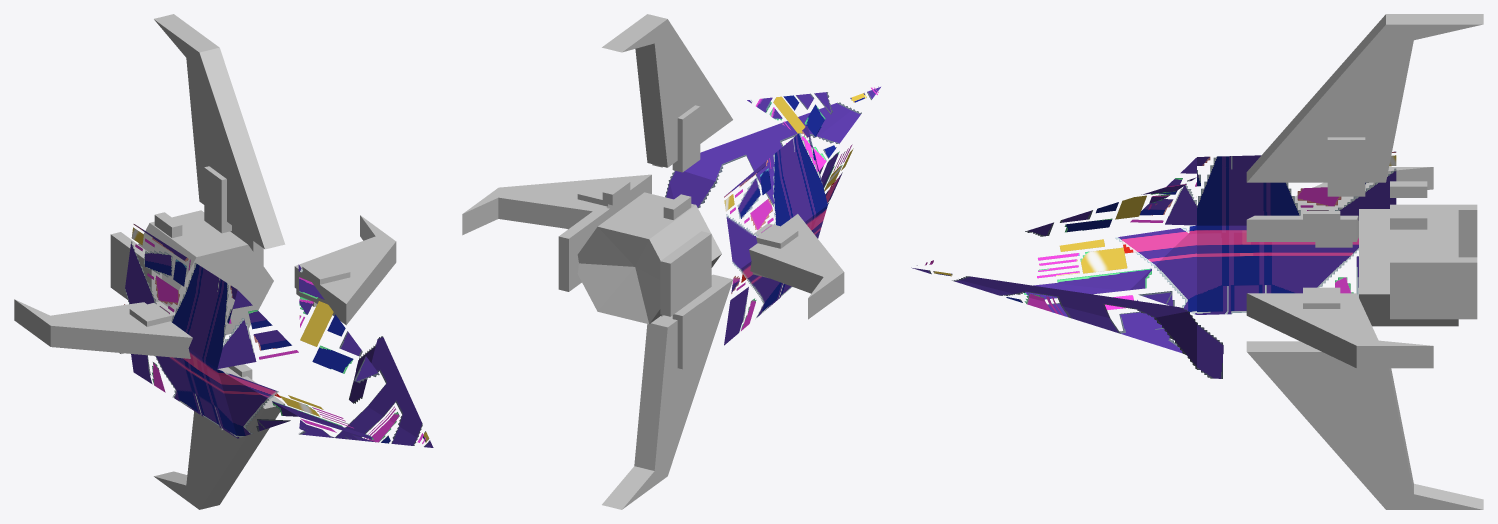
Rendered from Blijnik.obj.
The picture shows the model from 3 angles, left to right: view 1: azimuth 30°, elevation 25°; view 2: azimuth 150°, elevation 25°; view 3: azimuth 270°, elevation 25°; orthographic projection. The views are drawn at different scales.
Parts seen in each view (by area): view 1: cuboid, Top Wing, cylinder, Left Wing, Bot Wing, Right Wing; view 2: cuboid, cylinder, Bot Wing, Top Wing, Right Wing, Left Wing; view 3: cuboid, Top Wing, Bot Wing, Right Wing, cylinder, Left Wing.
Boxes of the visible parts, x1,y1,x2,y2 form: cuboid: [110, 166, 433, 447]; Top Wing: [154, 14, 285, 249]; cylinder: [138, 210, 273, 335]; Left Wing: [14, 299, 192, 358]; Bot Wing: [154, 367, 284, 509]; Right Wing: [294, 215, 396, 325]; cuboid: [558, 86, 880, 369]; cylinder: [577, 192, 721, 324]; Bot Wing: [602, 274, 733, 509]; Top Wing: [602, 14, 732, 167]; Right Wing: [462, 174, 651, 235]; Left Wing: [749, 214, 844, 319]; cuboid: [911, 137, 1477, 405]; Top Wing: [1246, 14, 1483, 182]; Bot Wing: [1246, 341, 1483, 509]; Right Wing: [1246, 293, 1433, 368]; cylinder: [1359, 209, 1458, 326]; Left Wing: [1246, 167, 1433, 241].
Size of the model in its own units: 2.12 by 2.69 by 2.88.
